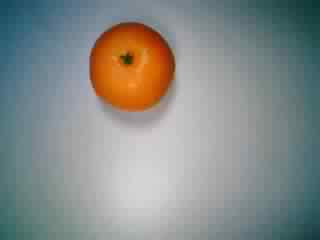orange: (82, 18, 183, 113)
